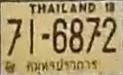1: (30, 18, 34, 54)
2: (102, 17, 117, 52)
6: (52, 18, 66, 52)
7: (6, 18, 22, 55), (86, 16, 101, 52)
8: (69, 17, 83, 52)
SPK: (23, 56, 101, 72)
